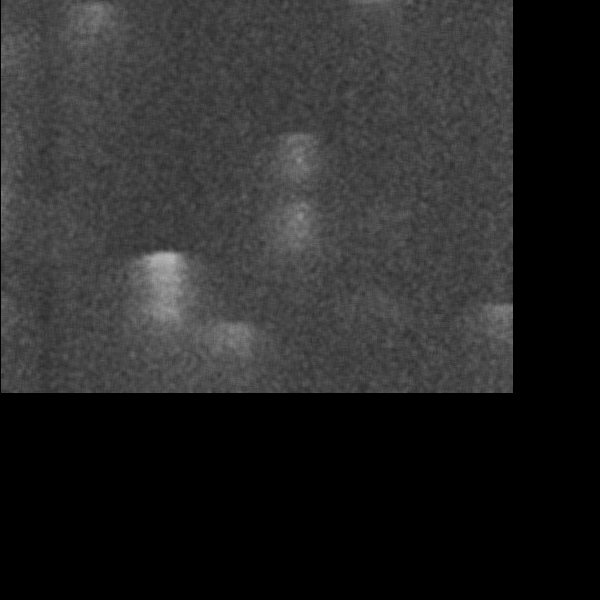spark: (79, 128, 160, 193), (281, 57, 301, 93)
